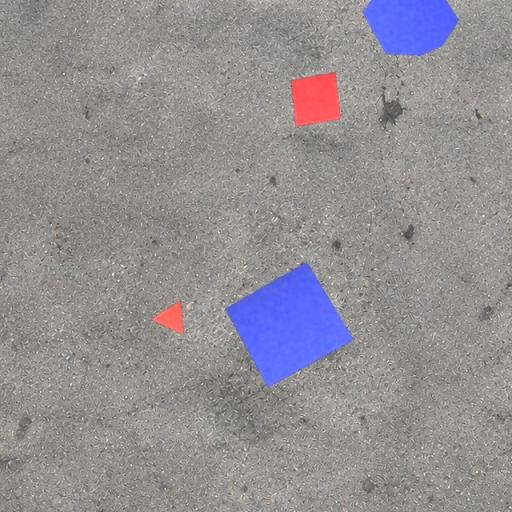BLUE_SQUARE: (225, 261, 354, 388)
RED_SQUARE: (290, 71, 342, 127)
